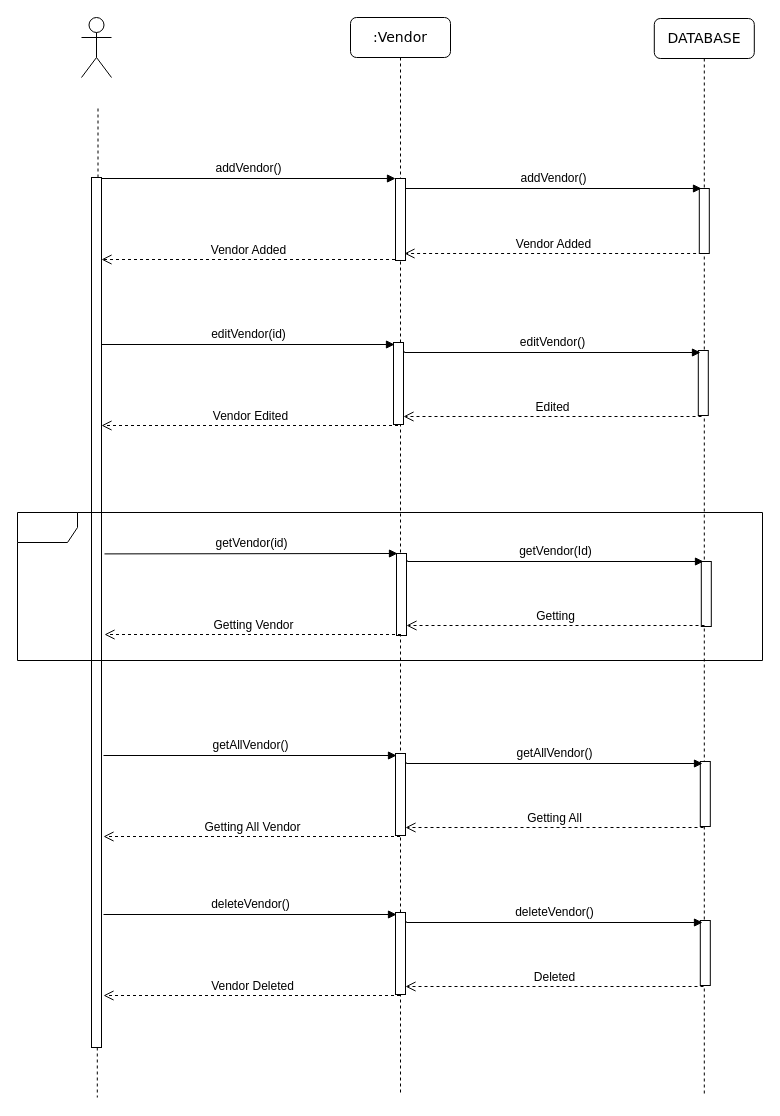
The diagram is 780 pixels wide and 1116 high, and some of its shapes have lost their labels. Each missing label, with the box of its shape:
Admin: (80, 16, 112, 78)
loop: (16, 512, 762, 660)
